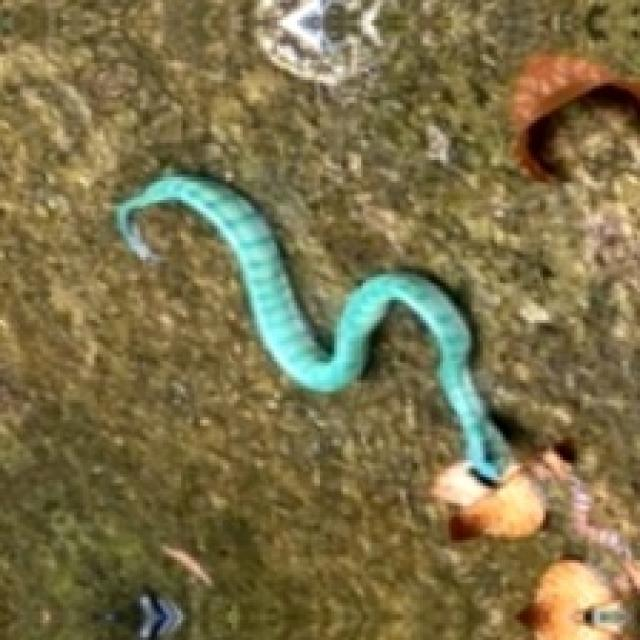north ph temple pitviper: (114, 174, 509, 480)
